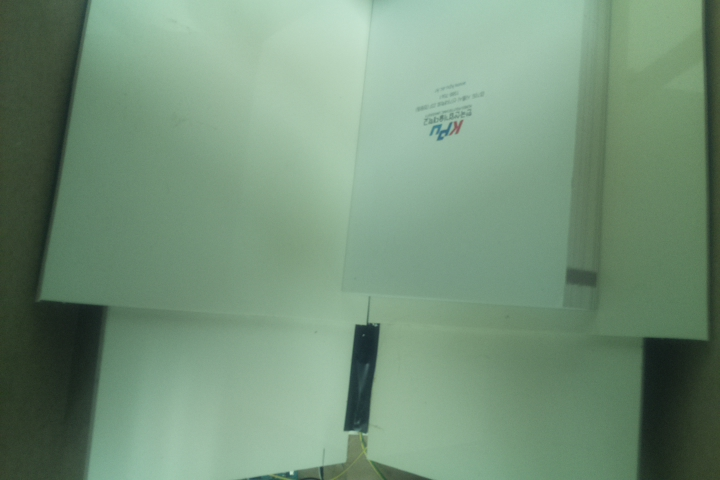book: (335, 1, 610, 311)
